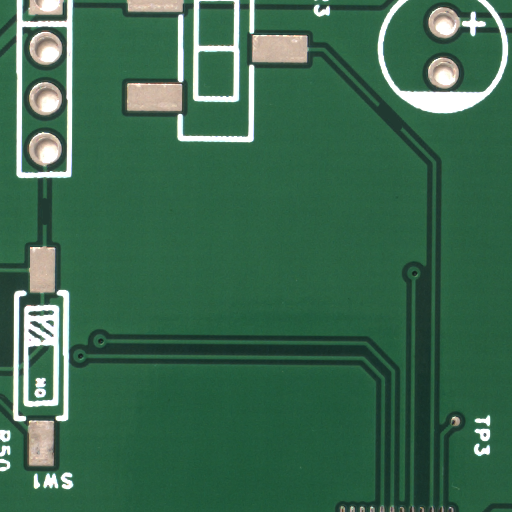Open_circuit: (390, 116, 413, 142), (42, 211, 50, 238)
